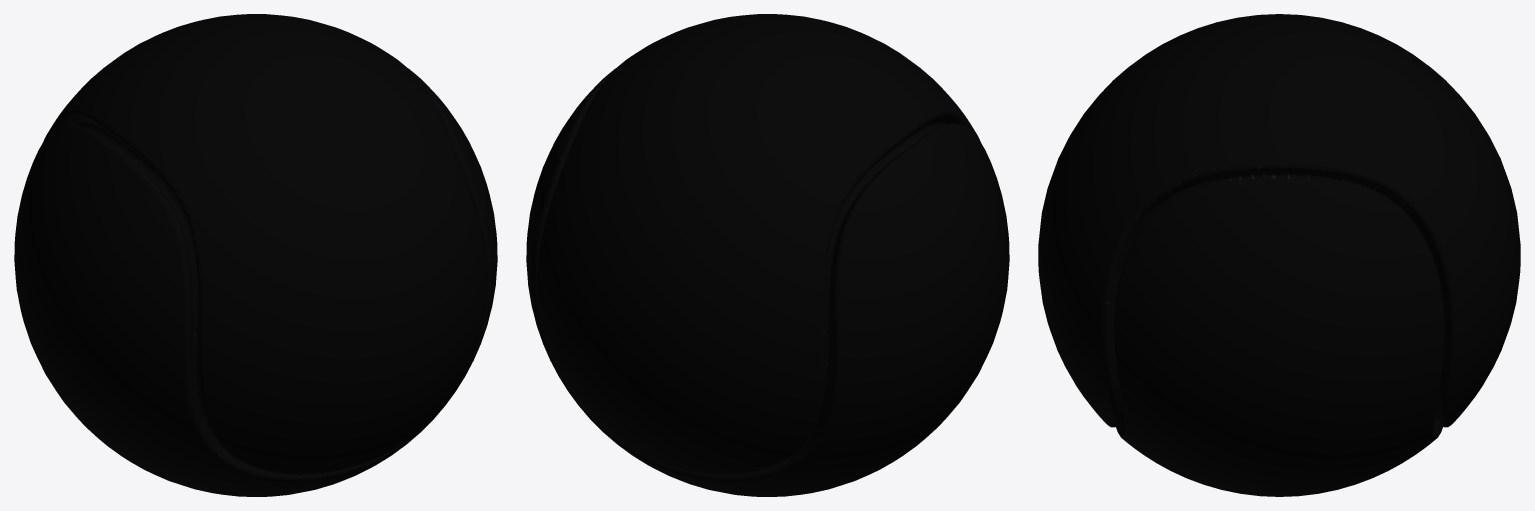
The model's file is RollerBall.fbx.
The picture shows the model from 3 angles, left to right: view 1: azimuth 30°, elevation 25°; view 2: azimuth 150°, elevation 25°; view 3: azimuth 270°, elevation 25°; orthographic projection.
Visible parts, largest first — view 1: node_id4; view 2: node_id4; view 3: node_id4.
Boxes of the visible parts, left/top/right/bottom form: node_id4: left=14, top=14, right=497, bottom=496; node_id4: left=526, top=14, right=1009, bottom=496; node_id4: left=1038, top=14, right=1520, bottom=496.
Bounding box in the file's own units: 0.5116 × 0.512 × 0.5116.
Materials: 1 (1 with a texture image).
